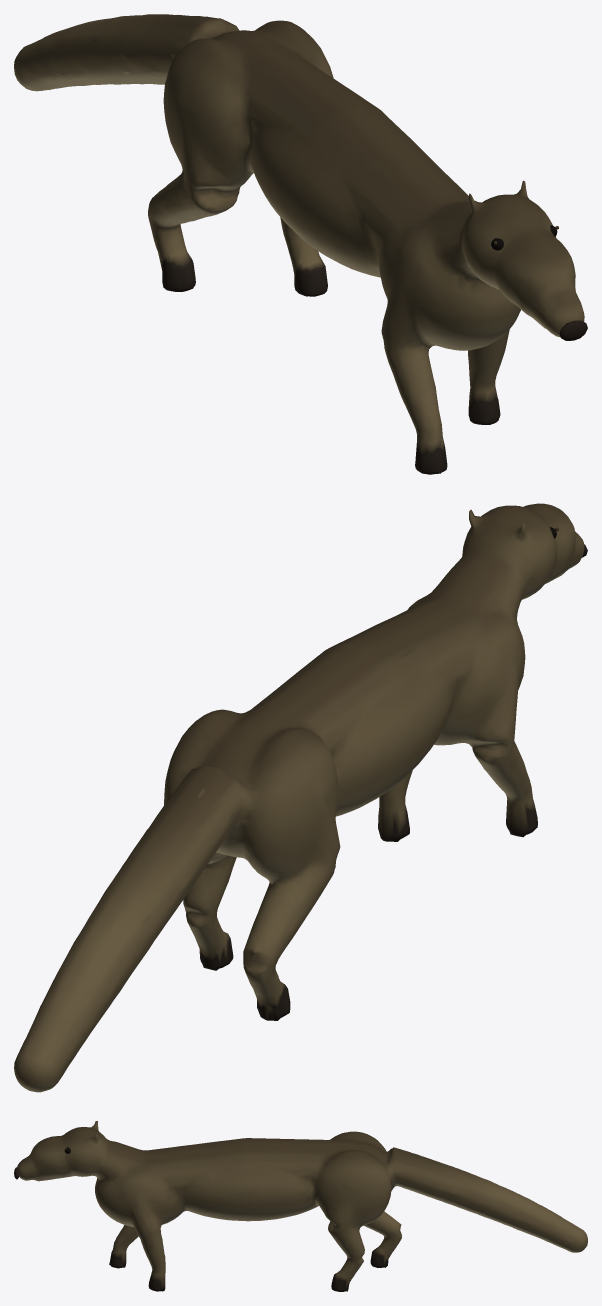
File: PhenacodusPrimaevus.fbx
3 renders of one model, top to bottom at view 1: azimuth 30°, elevation 25°; view 2: azimuth 150°, elevation 25°; view 3: azimuth 270°, elevation 25°, orthographic. The views are drawn at different scales.
Visible parts, largest first — view 1: PhenacodusPrimaevus; view 2: PhenacodusPrimaevus; view 3: PhenacodusPrimaevus.
Boxes of the visible parts, x1,y1,x2,y2 form: PhenacodusPrimaevus: (14,14,587,474); PhenacodusPrimaevus: (14,503,587,1092); PhenacodusPrimaevus: (14,1121,587,1291).
Size of the model in its own units: 0.363 by 0.6806 by 2.35.
